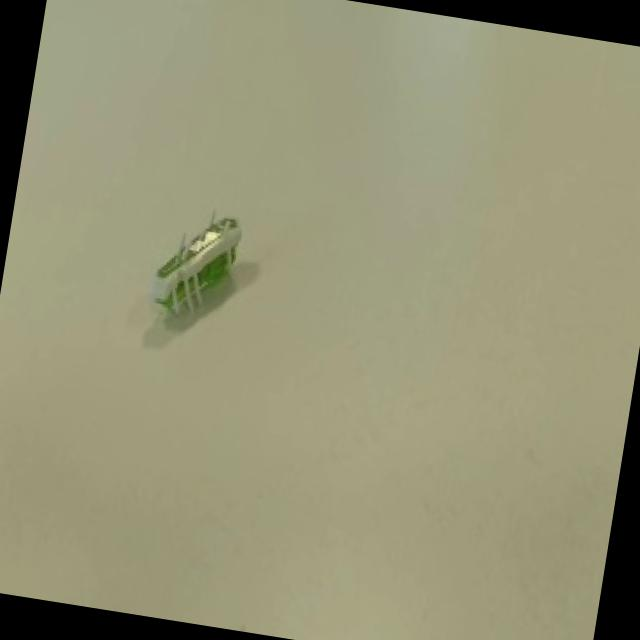4_NanoBug_Blanco: (112, 164, 286, 358)
